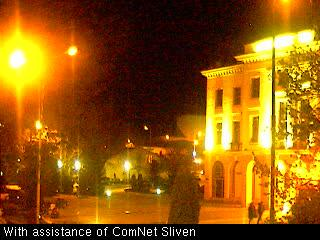person: (247, 201, 256, 224), (256, 201, 265, 224)
